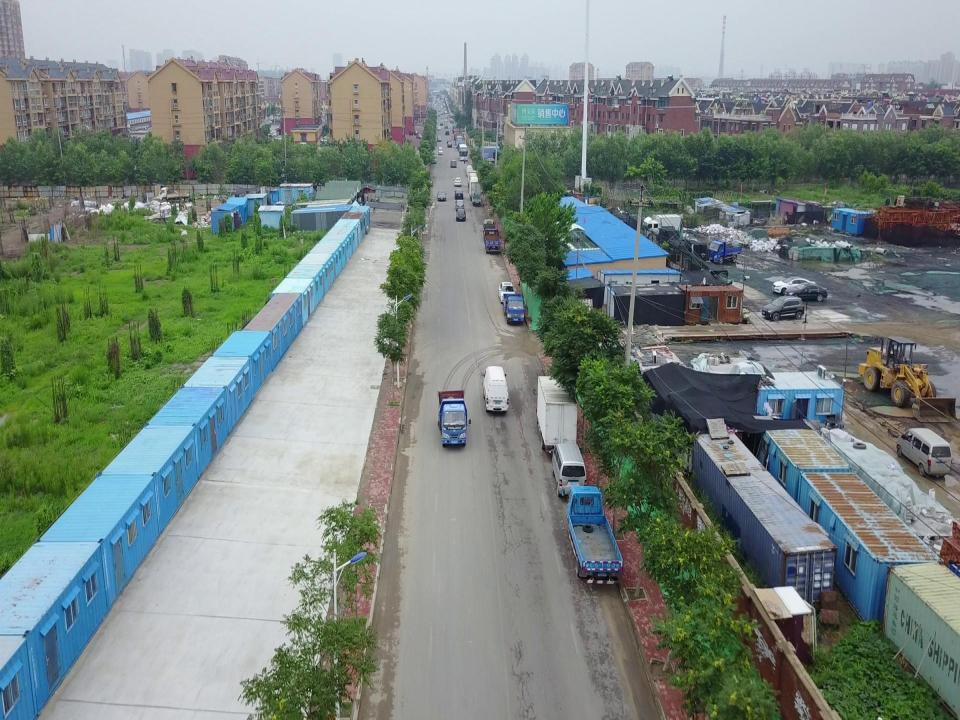bus: (458, 144, 468, 162)
car: (761, 293, 805, 322), (783, 280, 829, 303), (771, 275, 815, 296), (497, 280, 517, 305), (456, 207, 466, 222), (455, 199, 465, 211), (437, 190, 447, 201), (454, 189, 464, 199), (454, 177, 462, 186), (450, 159, 458, 168), (431, 153, 437, 163), (447, 142, 453, 147)
truck: (560, 485, 623, 587), (533, 372, 579, 454), (435, 389, 472, 447), (639, 212, 683, 241), (707, 236, 743, 264), (500, 293, 526, 325), (158, 186, 192, 202), (483, 227, 502, 255), (481, 217, 497, 241), (468, 180, 482, 202), (468, 170, 480, 191), (472, 192, 482, 207)
van: (895, 425, 952, 477), (549, 443, 588, 498), (480, 364, 510, 414), (466, 164, 474, 176), (438, 146, 444, 155)
